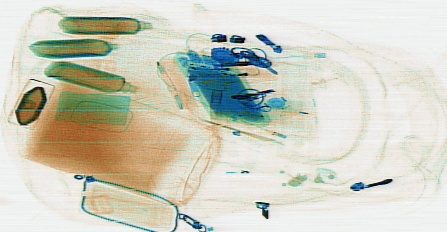lighter: (210, 63, 273, 83)
